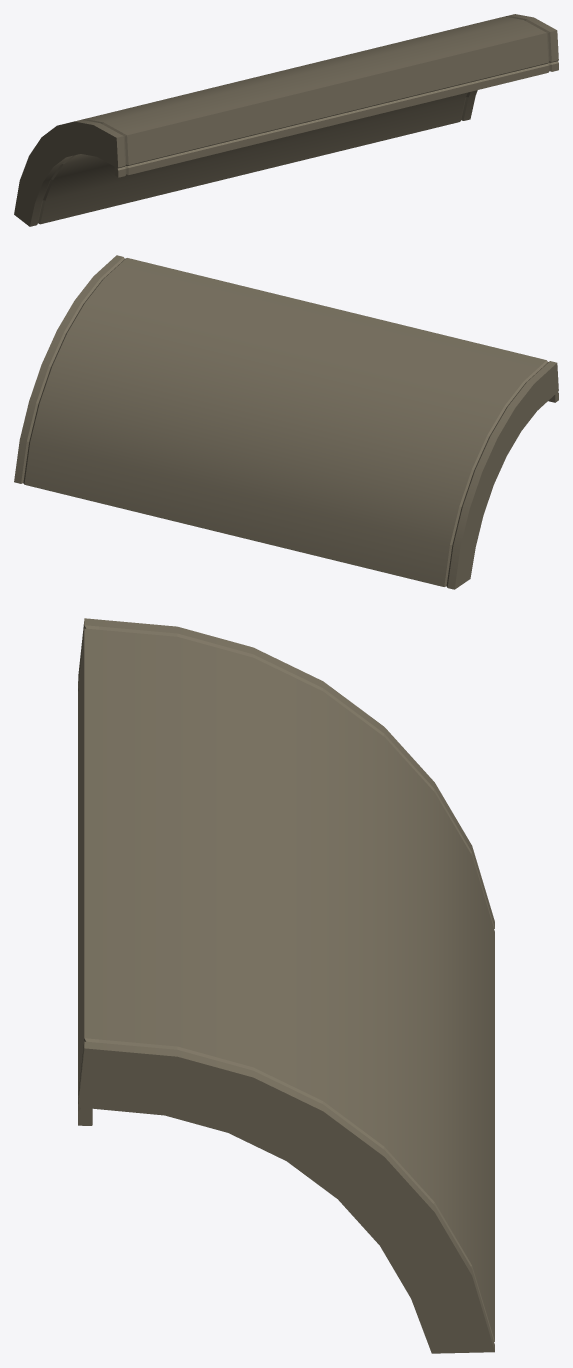
Rendered from SM_roofpiece_03.fbx.
3 views of the same model, one above another, from view 1: azimuth 30°, elevation 25°; view 2: azimuth 150°, elevation 25°; view 3: azimuth 270°, elevation 25° (orthographic). The views are drawn at different scales.
Visible parts, largest first — view 1: roofpiece_03; view 2: roofpiece_03; view 3: roofpiece_03.
Part boxes in pixels (bbox=[...]): roofpiece_03: bbox=[14, 14, 558, 226]; roofpiece_03: bbox=[14, 255, 558, 589]; roofpiece_03: bbox=[78, 618, 494, 1353].
Bounding box in the file's own units: 292 × 96.79 × 120.
